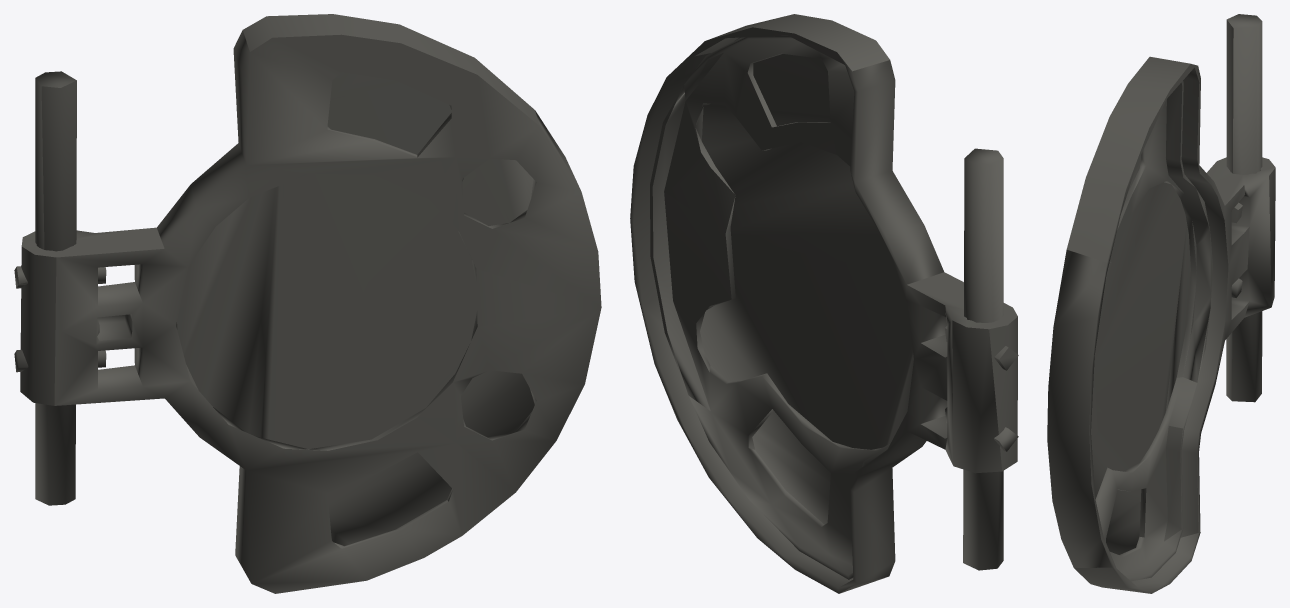
The model's file is WATSON_Camera_Cap.dae.
3 renders of one model, left to right at view 1: azimuth 30°, elevation 25°; view 2: azimuth 150°, elevation 25°; view 3: azimuth 270°, elevation 25°, orthographic. The views are drawn at different scales.
Visible parts, largest first — view 1: Object_0; view 2: Object_0; view 3: Object_0.
Part boxes in pixels (<box>): Object_0: <box>14,14,601,593</box>; Object_0: <box>630,14,1018,593</box>; Object_0: <box>1047,14,1275,593</box>.
Size of the model in its own units: 0.0457 by 0.0208 by 0.05.
Materials: 1 (1 with a texture image).
